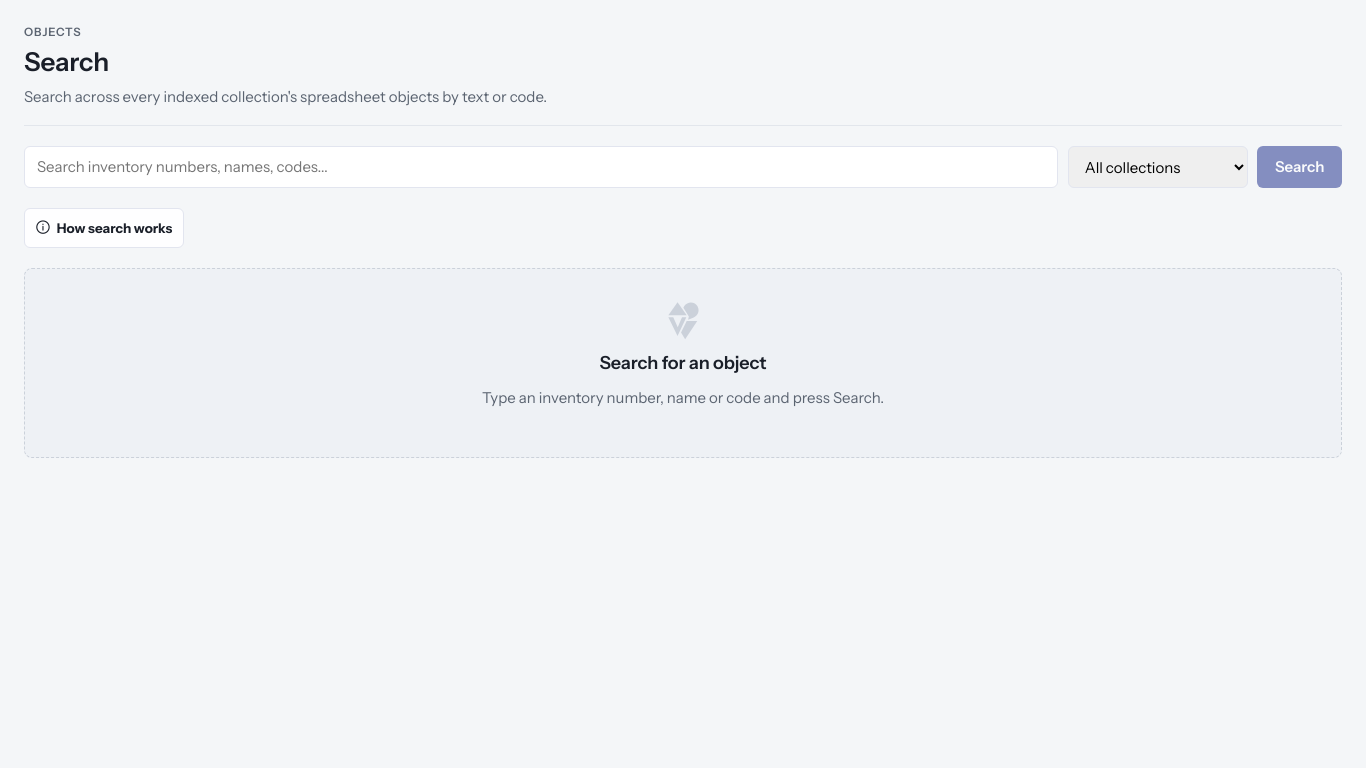
Test case: ObjectSearchPageComponent › renders results with the sanitised highlight after a search
The image size is (1366, 768).
Type "jaguar" into the search field with class "search-bar__input" at (541,167), box [24, 146, 1058, 188]
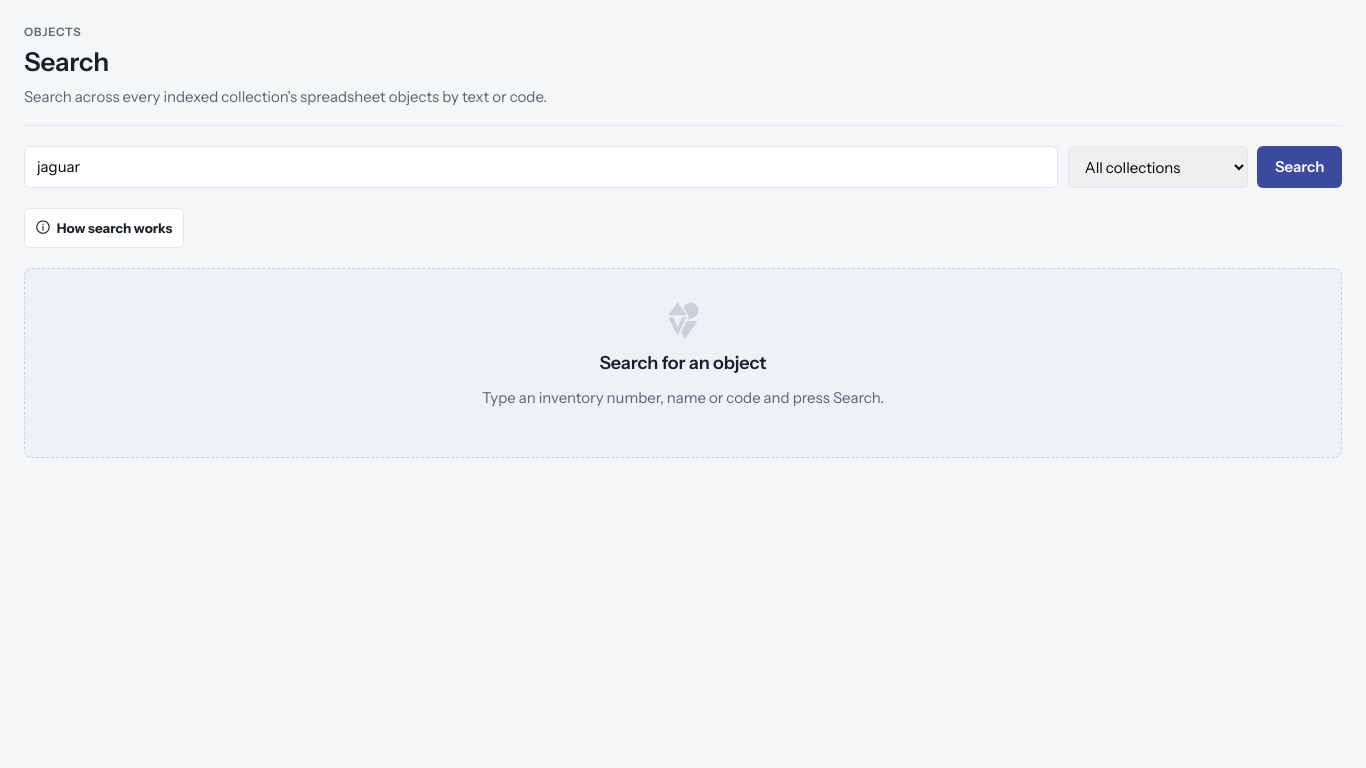
Click the button with class "search-bar__button" at (1300,167), box [1257, 146, 1342, 188]
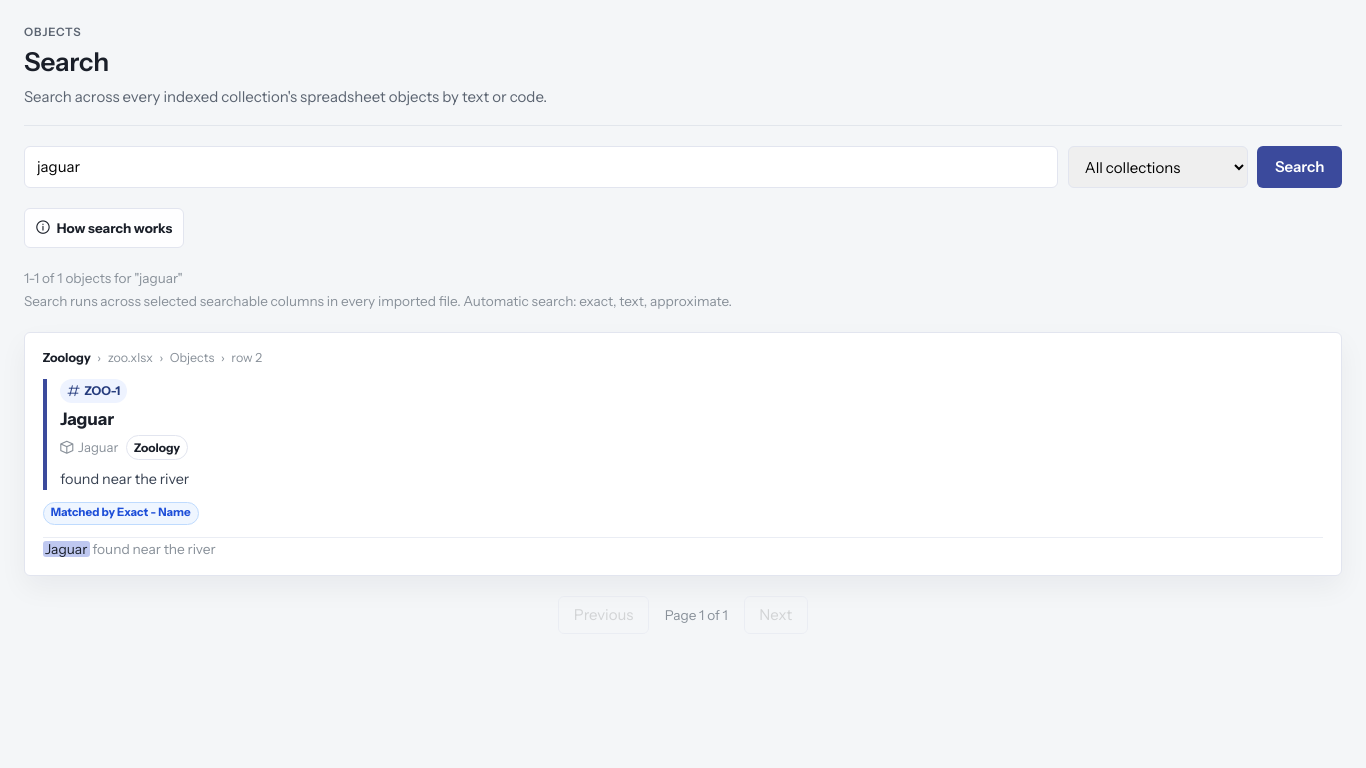
expect the heading "Jaguar" is shown: met, box [60, 408, 114, 429]
expect the element with class "result__snapshot" shows "ZOO-1": met, box [84, 383, 120, 398]
expect the element with class "result__snapshot" shows "Jaguar": met, box [60, 408, 114, 429]
